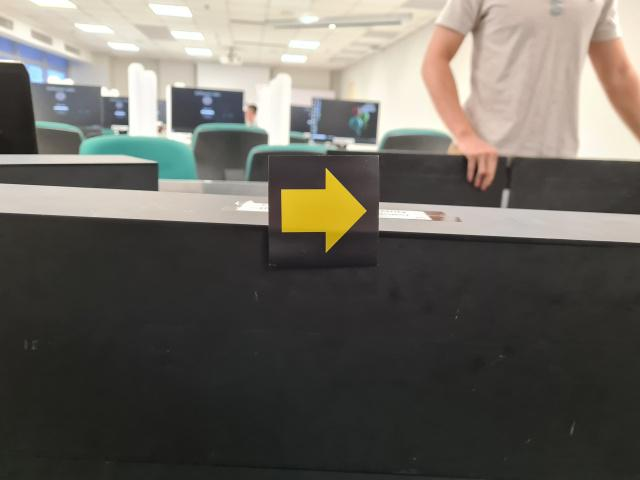right: (267, 154, 379, 266)
